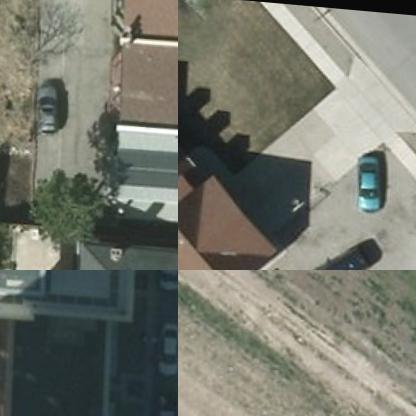car: (36, 78, 68, 134), (358, 146, 384, 206), (160, 310, 177, 367), (159, 382, 177, 415)
pickup: (302, 230, 374, 269)
